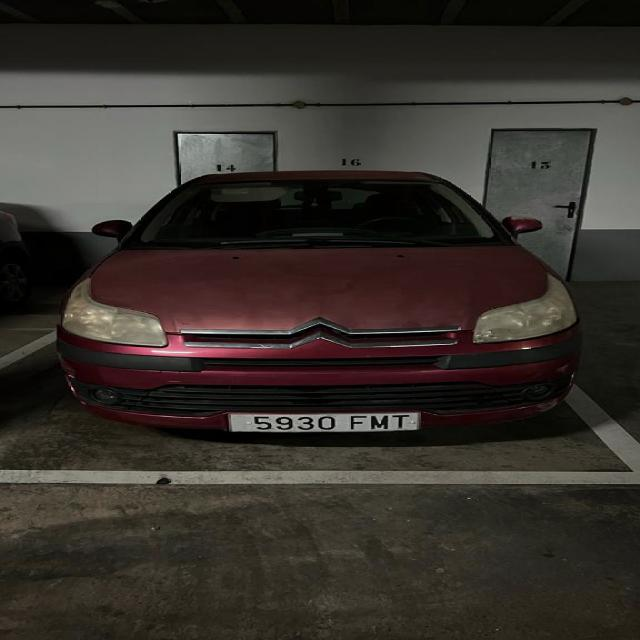License-Plate: (227, 412, 420, 434)
